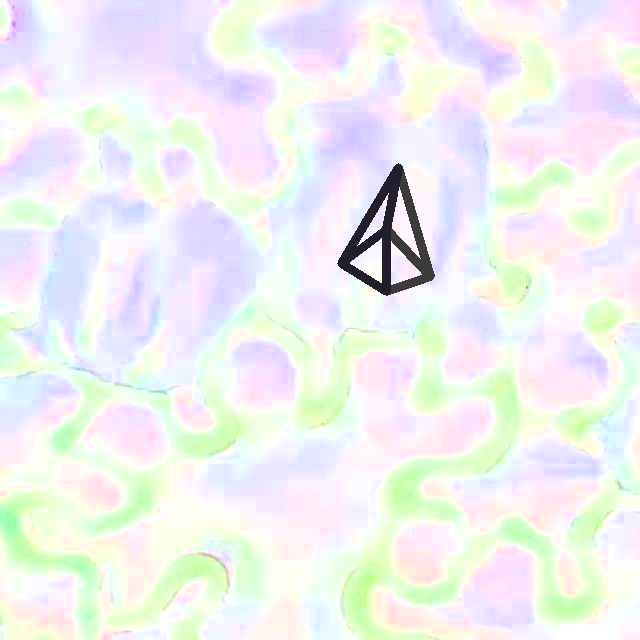open: (337, 163, 434, 295)
